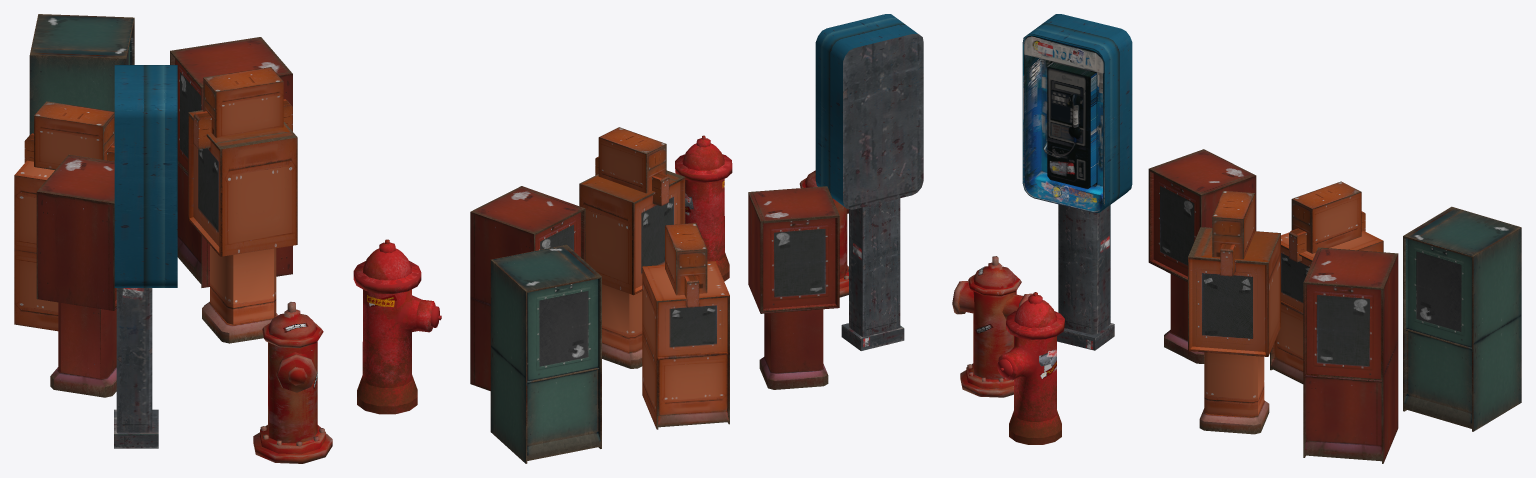
File: props.fbx
3 views of the same model, side by side, from view 1: azimuth 30°, elevation 25°; view 2: azimuth 150°, elevation 25°; view 3: azimuth 270°, elevation 25° (orthographic). The views are drawn at different scales.
Parts seen in each view (by area): view 1: DP_TNR_NewspaperV_1, WT_PhoneBox1, SP_TNR_Hydrant_1 (×2), DP_TNR_NewspaperV_3, DP_TNR_NewspaperV_4, DP_TNR_NewspaperV_2, DP_TNR_NewspaperV_5; view 2: WT_PhoneBox1, DP_TNR_NewspaperV_2, DP_TNR_NewspaperV_3, DP_TNR_NewspaperV_1, DP_TNR_NewspaperV_4, DP_TNR_NewspaperV_5, SP_TNR_Hydrant_1 (×2); view 3: WT_PhoneBox1, DP_TNR_NewspaperV_2, DP_TNR_NewspaperV_5, DP_TNR_NewspaperV_1, SP_TNR_Hydrant_1 (×2), DP_TNR_NewspaperV_3, DP_TNR_NewspaperV_4.
Part boxes in pixels (x1,y1,x2,y2): DP_TNR_NewspaperV_1: (188, 67, 297, 343); WT_PhoneBox1: (114, 65, 177, 448); SP_TNR_Hydrant_1 (×2): (253, 239, 441, 463); DP_TNR_NewspaperV_3: (36, 154, 116, 397); DP_TNR_NewspaperV_4: (14, 101, 114, 331); DP_TNR_NewspaperV_2: (29, 14, 134, 134); DP_TNR_NewspaperV_5: (170, 37, 292, 287); WT_PhoneBox1: (815, 14, 923, 350); DP_TNR_NewspaperV_2: (490, 244, 601, 463); DP_TNR_NewspaperV_3: (748, 186, 839, 389); DP_TNR_NewspaperV_1: (579, 127, 685, 368); DP_TNR_NewspaperV_4: (642, 223, 729, 429); DP_TNR_NewspaperV_5: (470, 186, 585, 390); SP_TNR_Hydrant_1 (×2): (675, 135, 848, 297); WT_PhoneBox1: (1022, 14, 1132, 350); DP_TNR_NewspaperV_2: (1403, 206, 1521, 431); DP_TNR_NewspaperV_5: (1303, 247, 1398, 463); DP_TNR_NewspaperV_1: (1188, 190, 1280, 434); SP_TNR_Hydrant_1 (×2): (952, 256, 1064, 444); DP_TNR_NewspaperV_3: (1148, 149, 1256, 363); DP_TNR_NewspaperV_4: (1270, 181, 1383, 383).
Bounding box in the file's own units: 199 × 200 × 333.
